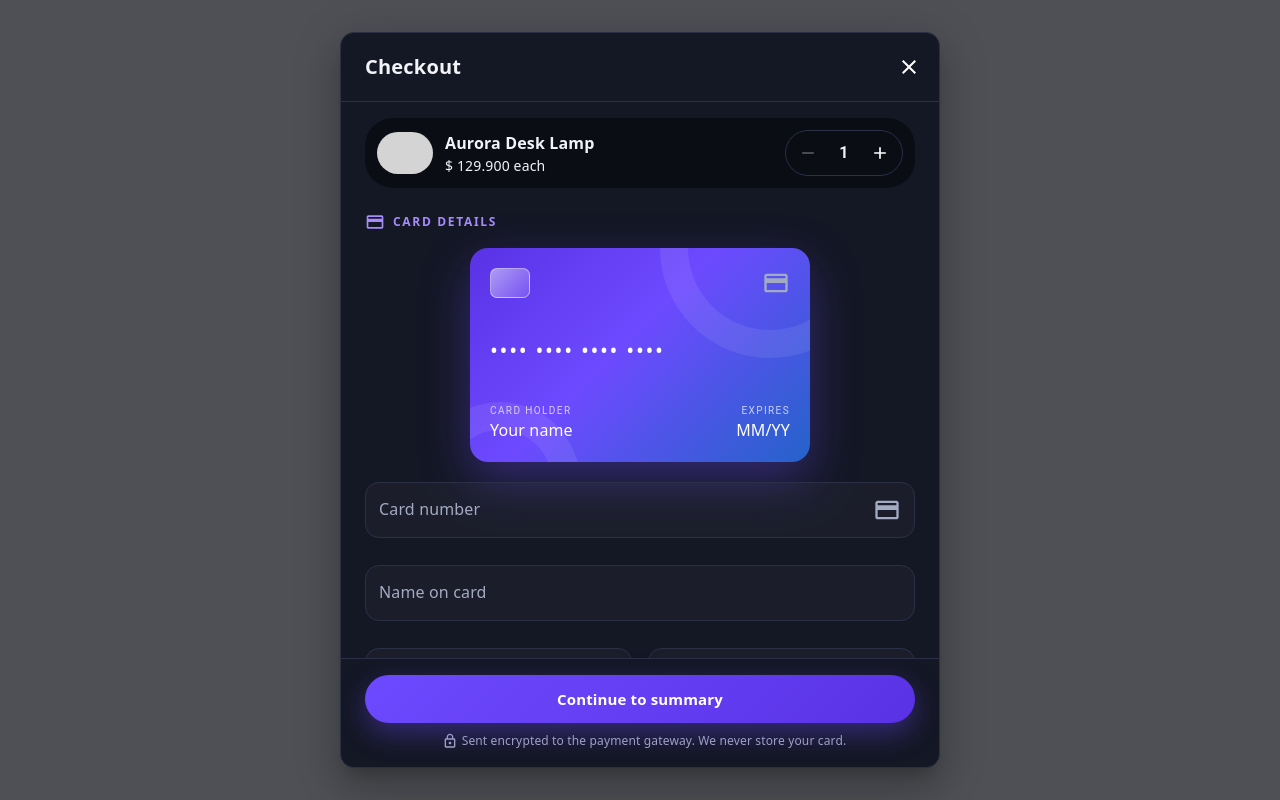
CheckoutDialog › AC-3: rejects a number that fails the Luhn check
Type "4242424242424241" into the field labelled "Card number". click: (615, 510)
box: x1=365 y1=482 x2=865 y2=538
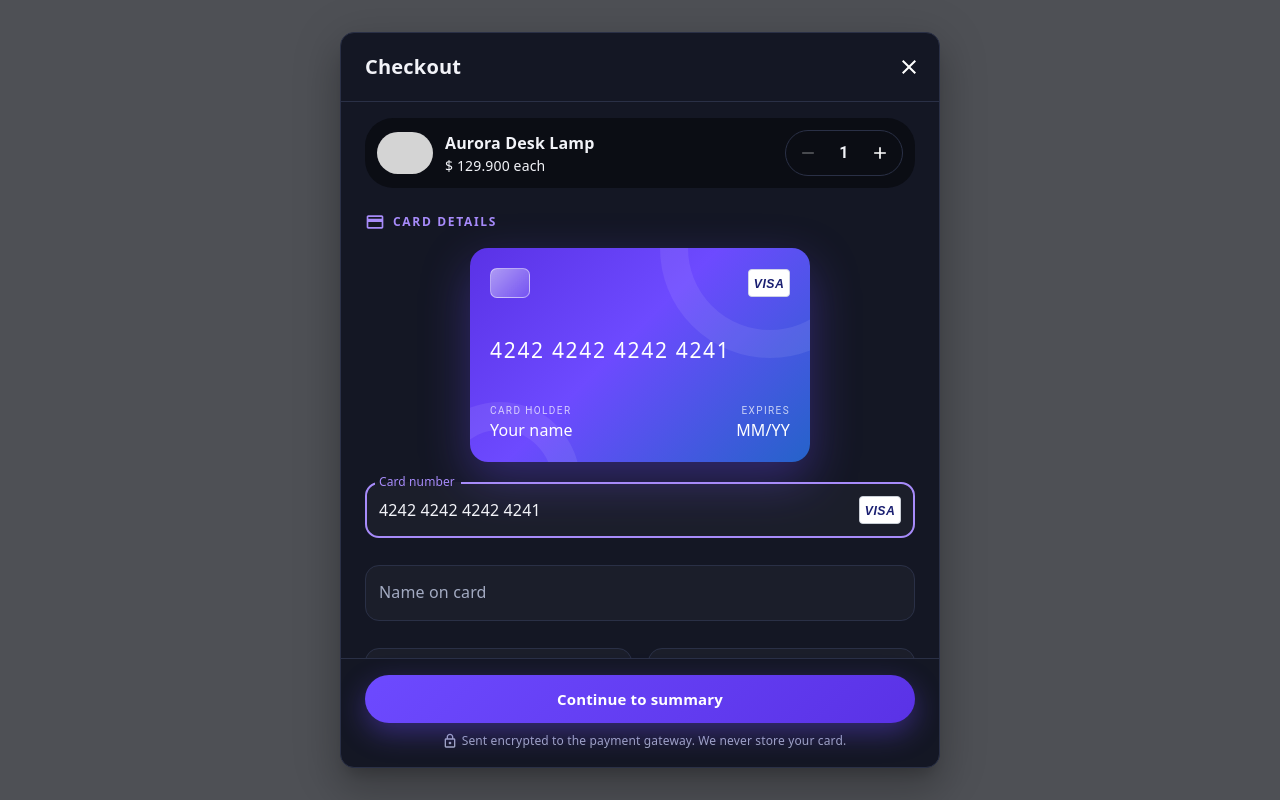
Press Tab
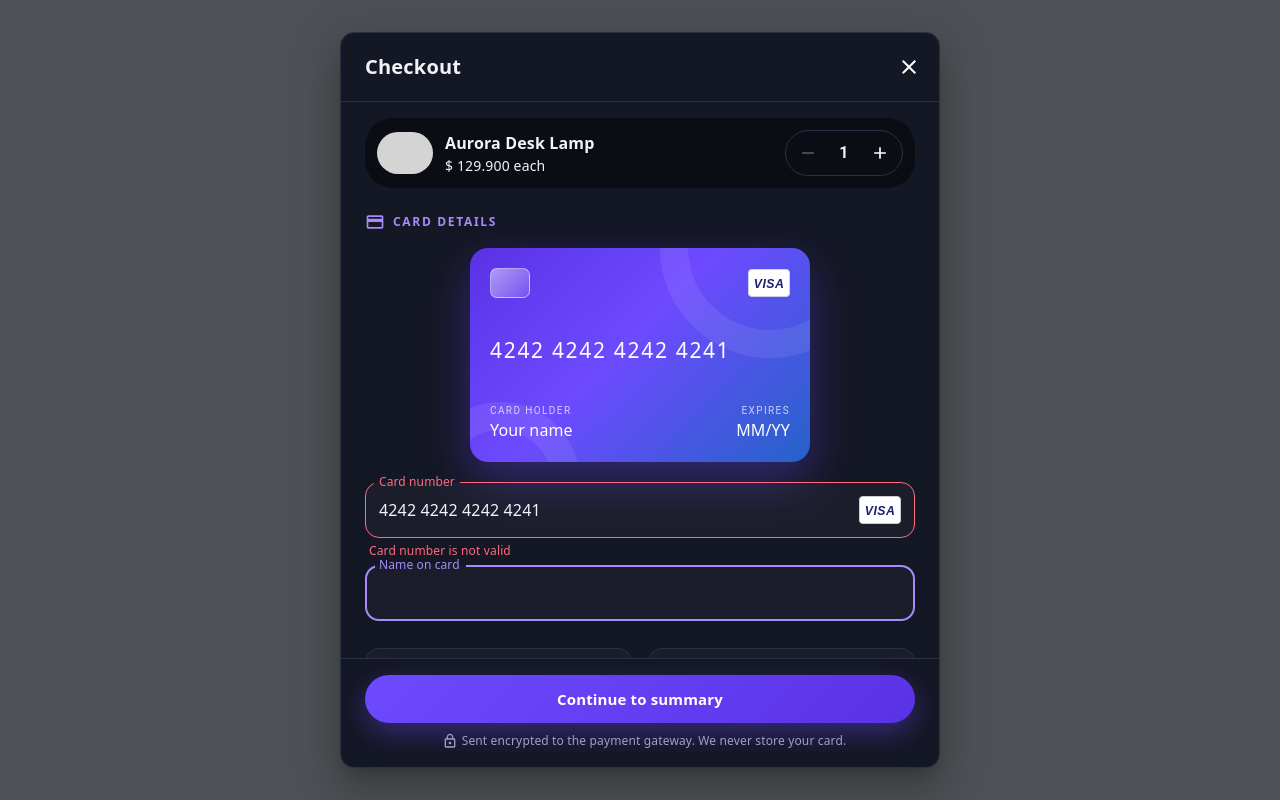
Now the text "Card number is not valid" is shown, box x1=369 y1=542 x2=511 y2=559
